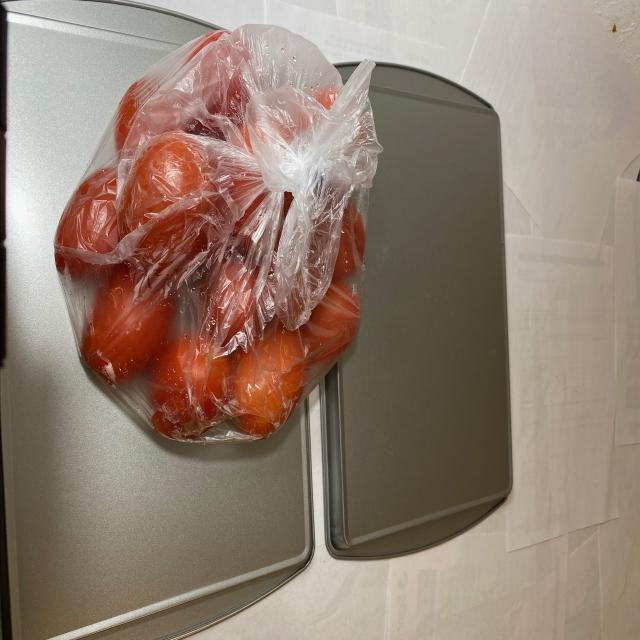tomato: (62, 34, 372, 451)
